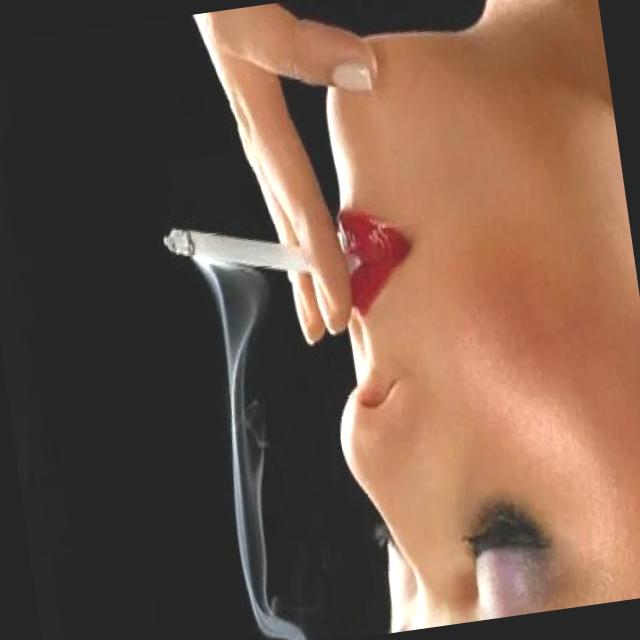smoke: (160, 205, 318, 305)
